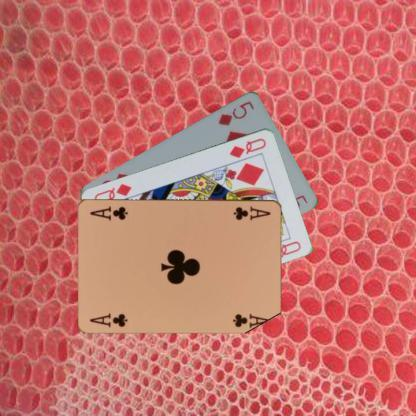5d: (216, 98, 256, 126)
Ac: (230, 204, 272, 222), (87, 310, 129, 328)
Qd: (226, 134, 268, 160)
